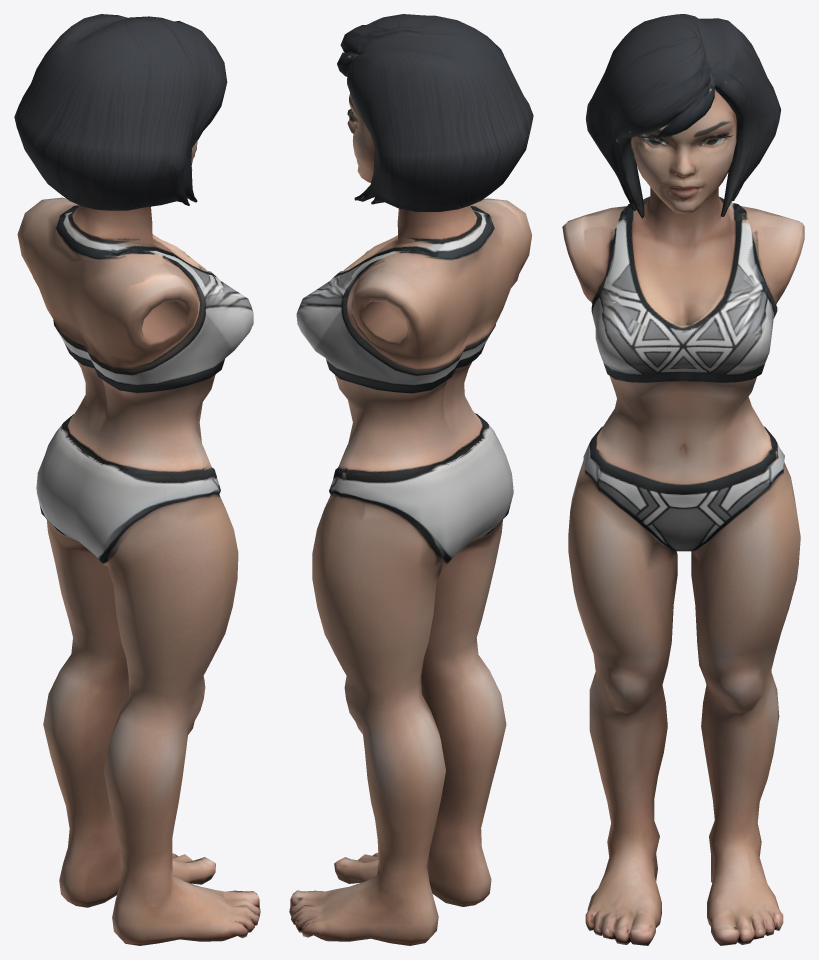
The model's file is fuzeball_womanKimi.glb.
3 views of the same model, side by side, from view 1: azimuth 30°, elevation 25°; view 2: azimuth 150°, elevation 25°; view 3: azimuth 270°, elevation 25° (orthographic). The views are drawn at different scales.
Visible parts, largest first — view 1: tripo_node_ae3c5a57-7896-465b-a4c8-533cc6739fae; view 2: tripo_node_ae3c5a57-7896-465b-a4c8-533cc6739fae; view 3: tripo_node_ae3c5a57-7896-465b-a4c8-533cc6739fae.
Part boxes in pixels (<box>): tripo_node_ae3c5a57-7896-465b-a4c8-533cc6739fae: <box>14,14,260,945</box>; tripo_node_ae3c5a57-7896-465b-a4c8-533cc6739fae: <box>289,14,533,945</box>; tripo_node_ae3c5a57-7896-465b-a4c8-533cc6739fae: <box>562,14,804,945</box>.
Size of the model in its own units: 2.88 by 11.9 by 3.
3 materials, 3 textured.
